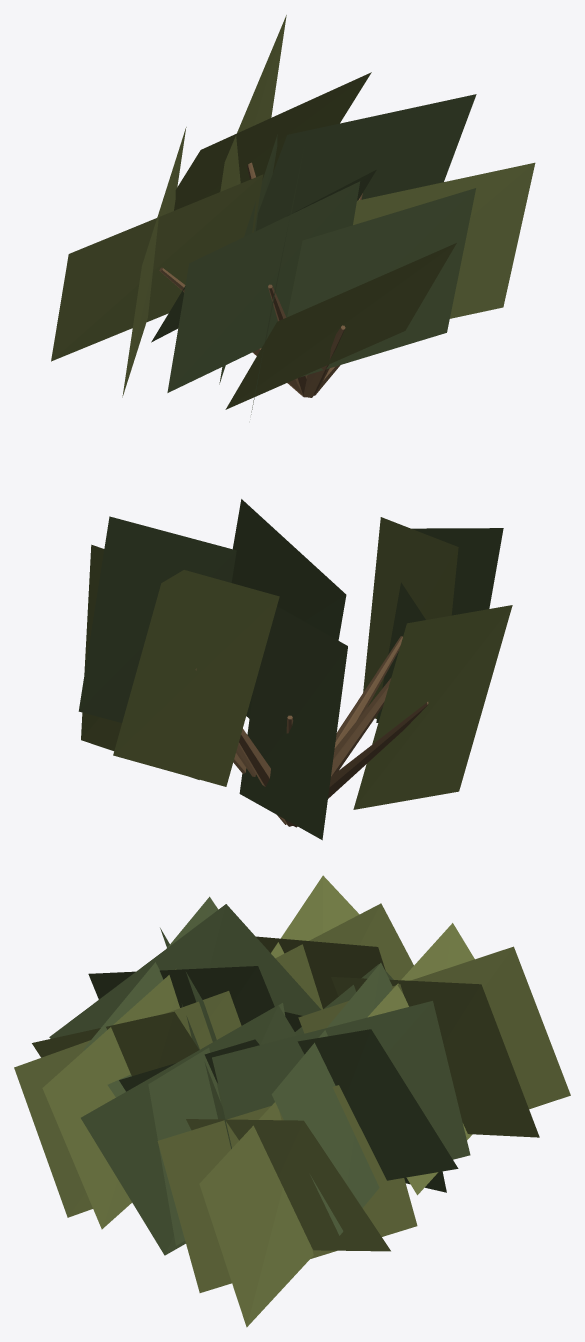
File: round_bush.glb
3 renders of one model, top to bottom at view 1: azimuth 30°, elevation 25°; view 2: azimuth 150°, elevation 25°; view 3: azimuth 270°, elevation 25°, orthographic. The views are drawn at different scales.
Visible parts, largest first — view 1: world-scenery/round_bush; view 2: world-scenery/round_bush; view 3: world-scenery/round_bush.
Boxes of the visible parts, box(x1,y1,x2,y2) form: world-scenery/round_bush: box(51, 15, 535, 414); world-scenery/round_bush: box(78, 499, 512, 840); world-scenery/round_bush: box(14, 875, 570, 1327).
Size of the model in its own units: 1.98 by 1.18 by 2.05.
